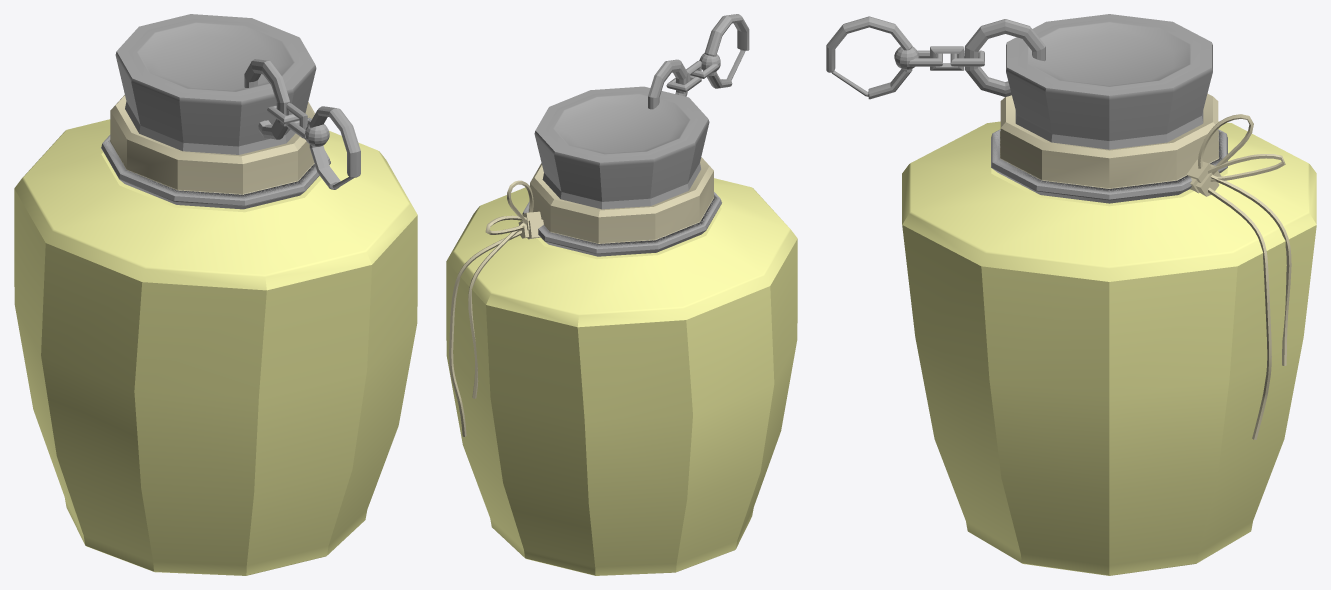
The model's file is Eggybottle.fbx.
3 views of the same model, side by side, from view 1: azimuth 30°, elevation 25°; view 2: azimuth 150°, elevation 25°; view 3: azimuth 270°, elevation 25° (orthographic). The views are drawn at different scales.
Visible parts, largest first — view 1: Bottle, BottleCap, Bottlecoverthing, Bottle_ribbon, keyring, Ring; view 2: Bottle, BottleCap, Bottlecoverthing, ribbon, Bottle_ribbon, keyring, Ring; view 3: Bottle, BottleCap, Bottlecoverthing, ribbon, Bottle_ribbon, keyring, Ring.
Boxes of the visible parts, box(x1,y1,x2,y2) form: Bottle: box(14, 119, 417, 575); BottleCap: box(115, 14, 316, 154); Bottlecoverthing: box(110, 95, 315, 194); Bottle_ribbon: box(101, 135, 330, 209); keyring: box(305, 106, 360, 189); Ring: box(244, 59, 289, 139); Bottle: box(446, 178, 797, 575); BottleCap: box(534, 86, 709, 209); Bottlecoverthing: box(530, 157, 714, 243); ribbon: box(449, 180, 543, 436); Bottle_ribbon: box(522, 192, 721, 256); keyring: box(699, 14, 749, 88); Ring: box(648, 59, 687, 109); Bottle: box(902, 121, 1316, 575); BottleCap: box(1006, 14, 1212, 149); Bottlecoverthing: box(1000, 93, 1218, 188); ribbon: box(1186, 114, 1291, 439); Bottle_ribbon: box(991, 129, 1227, 203); keyring: box(826, 16, 919, 99); Ring: box(965, 19, 1045, 96).
Bounding box in the file's own units: 9.52 × 13.01 × 11.55.
